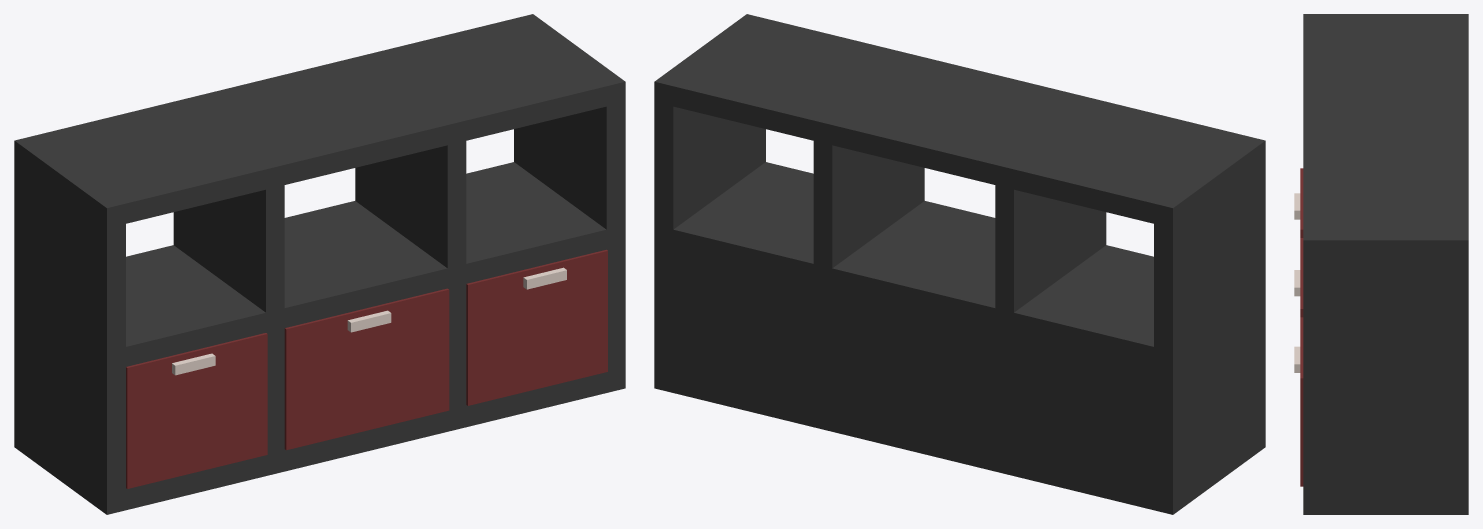
File: Cabinet_3.fbx
The picture shows the model from 3 angles, left to right: view 1: azimuth 30°, elevation 25°; view 2: azimuth 150°, elevation 25°; view 3: azimuth 270°, elevation 25°; orthographic projection. The views are drawn at different scales.
Parts seen in each view (by area): view 1: Cabinet_3; view 2: Cabinet_3; view 3: Cabinet_3.
Boxes of the visible parts, bbox=[...] form: Cabinet_3: bbox=[14, 14, 625, 514]; Cabinet_3: bbox=[654, 14, 1265, 514]; Cabinet_3: bbox=[1294, 14, 1468, 514].
Bounding box in the file's own units: 192 × 62.39 × 108.
